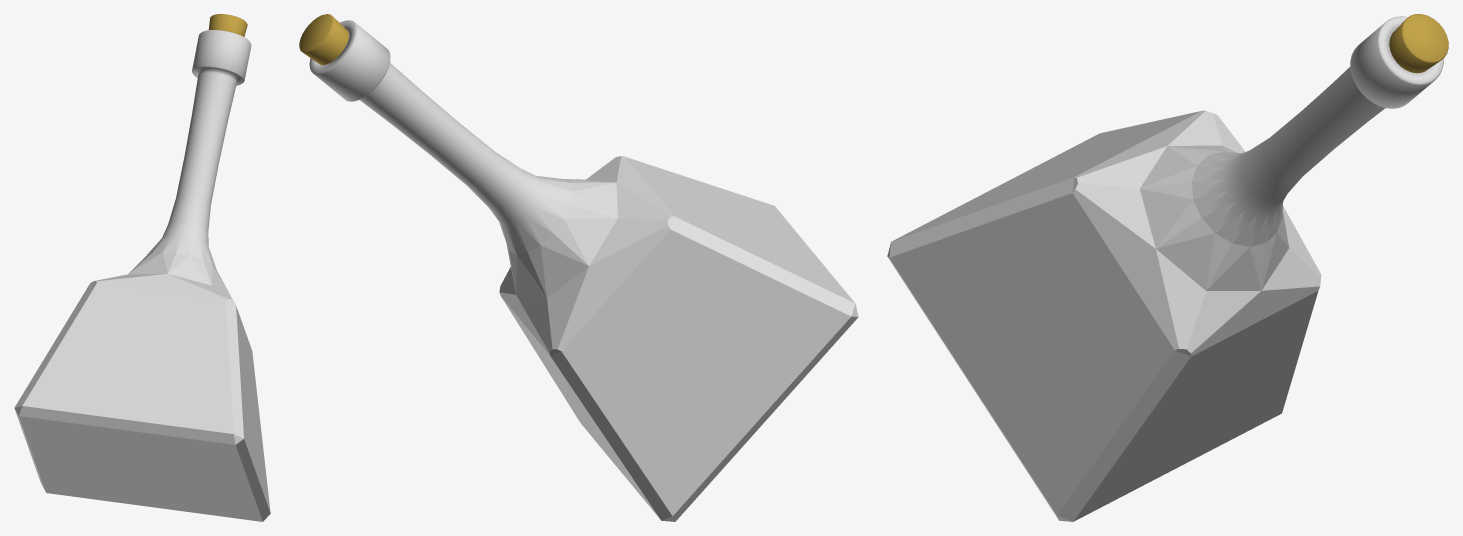
File: PotionSquare.fbx
3 renders of one model, left to right at view 1: azimuth 30°, elevation 25°; view 2: azimuth 150°, elevation 25°; view 3: azimuth 270°, elevation 25°, orthographic. The views are drawn at different scales.
Visible parts, largest first — view 1: Cube.008; view 2: Cube.008; view 3: Cube.008.
Part boxes in pixels (x1,y1,x2,y2): Cube.008: (14,14,270,521); Cube.008: (299,14,858,521); Cube.008: (887,14,1448,521).
Bounding box in the file's own units: 130 × 145 × 131.
